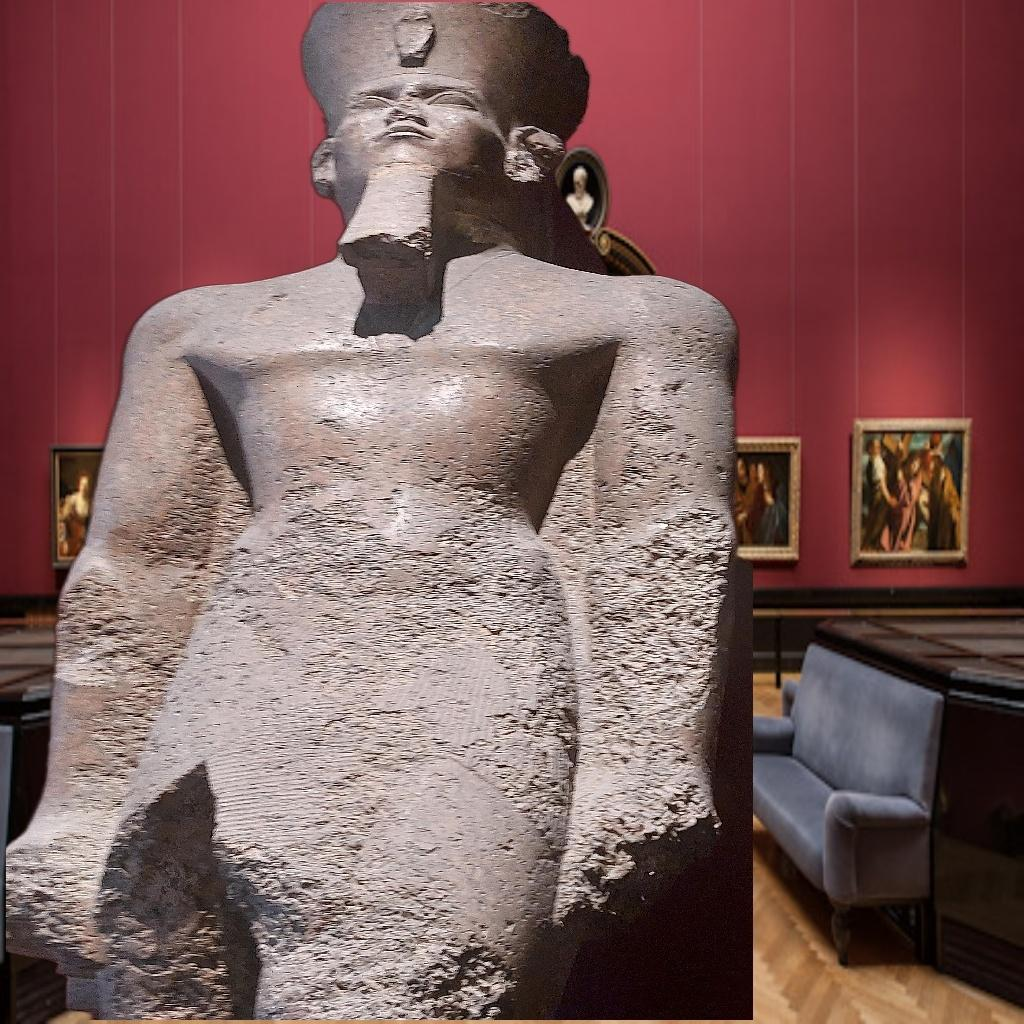Senwosret III: (6, 2, 754, 1020)
